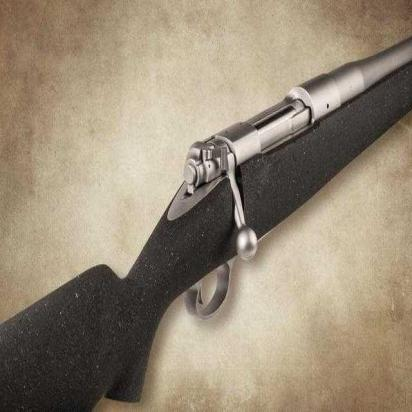Gun: (0, 32, 412, 412)
